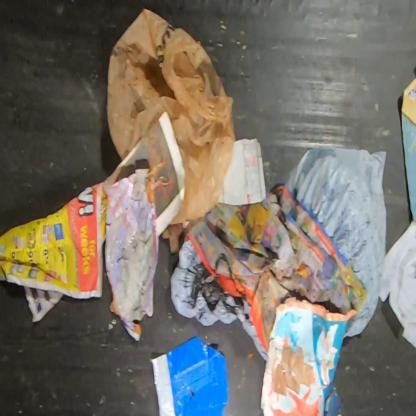cardboard: (150, 334, 231, 415), (219, 137, 268, 206)
rigid_plastic: (400, 75, 416, 127)
soft_plastic: (106, 7, 237, 226), (284, 146, 388, 339), (169, 236, 269, 362), (100, 166, 160, 343), (379, 219, 416, 349)
